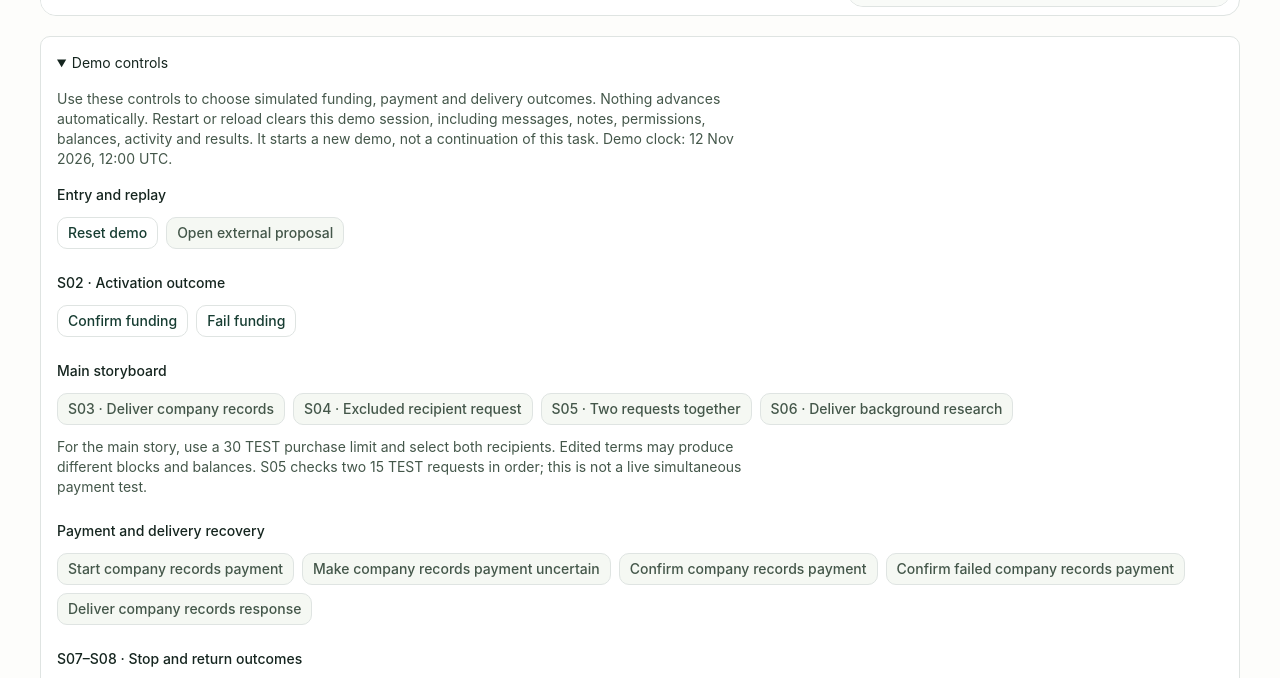
06 keeps the concise mandate-change action and its separate authorization requirement
Earlier steps of the test are not shown.
(page scrolled)
Click the button "Confirm funding" at {"x": 123, "y": 321}, box [57,305,188,337]
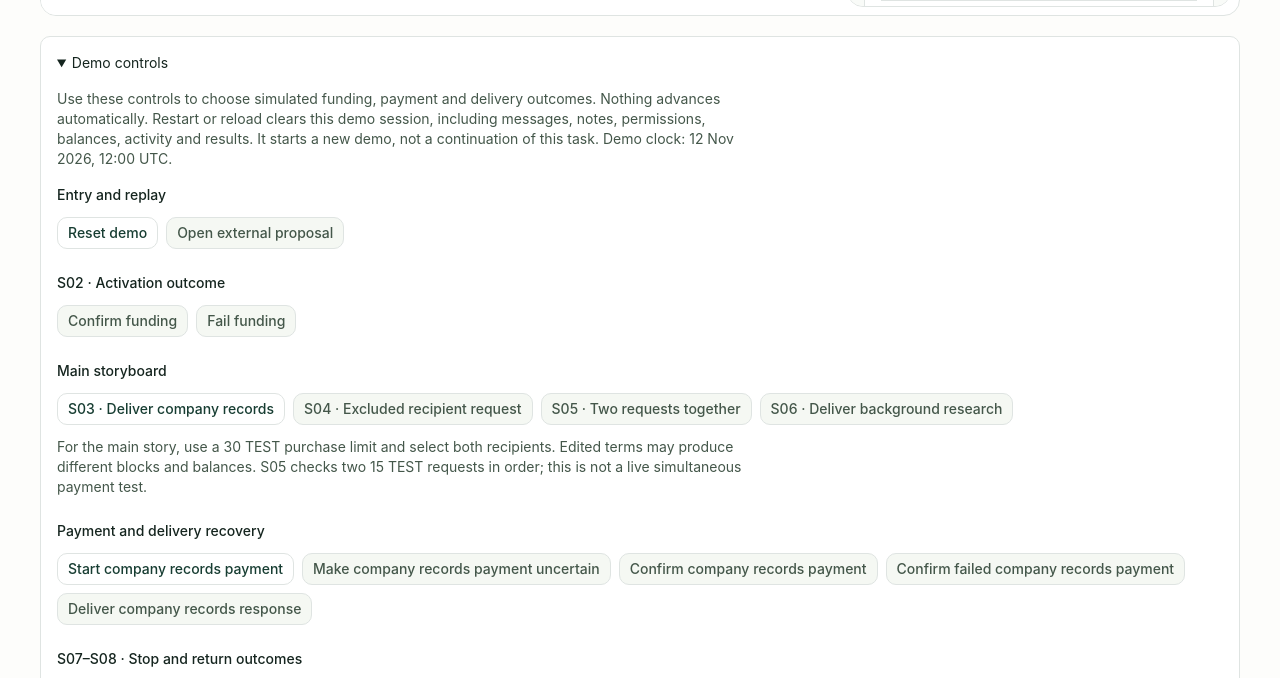
Click the button "S03 · Deliver company records" at {"x": 171, "y": 409}, box [57,393,285,425]
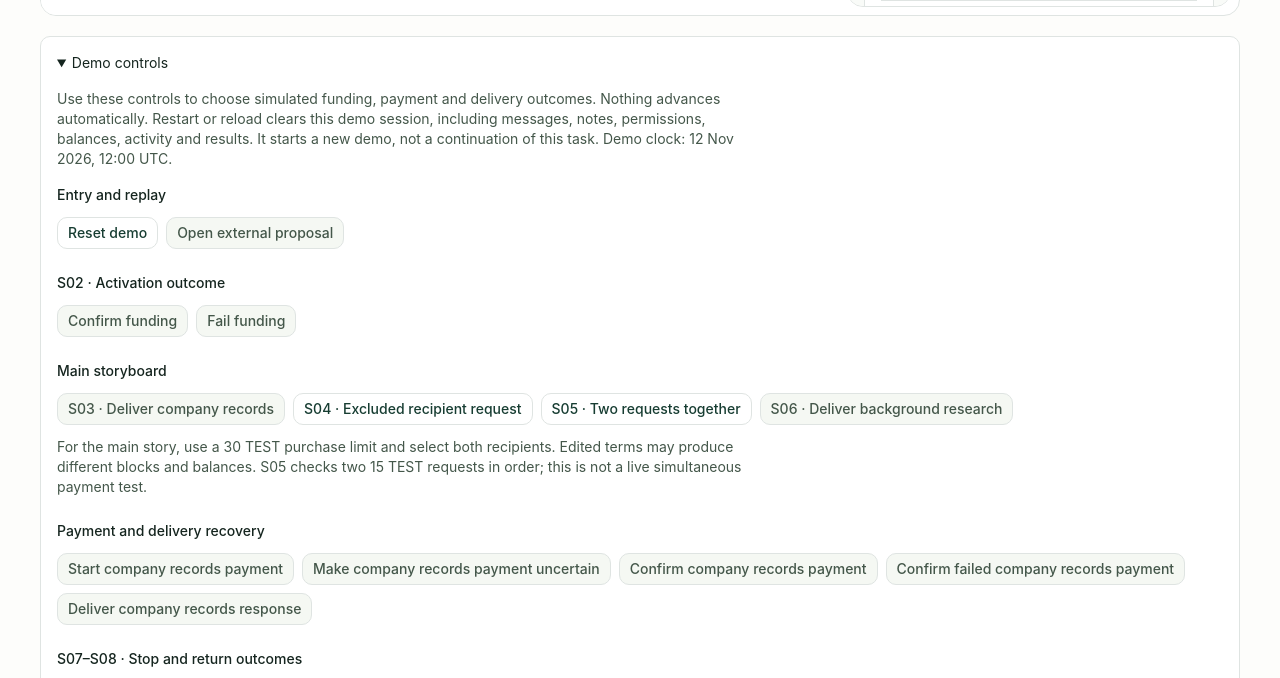
Click the button "S04 · Excluded recipient request" at {"x": 413, "y": 409}, box [293,393,533,425]
(page scrolled)
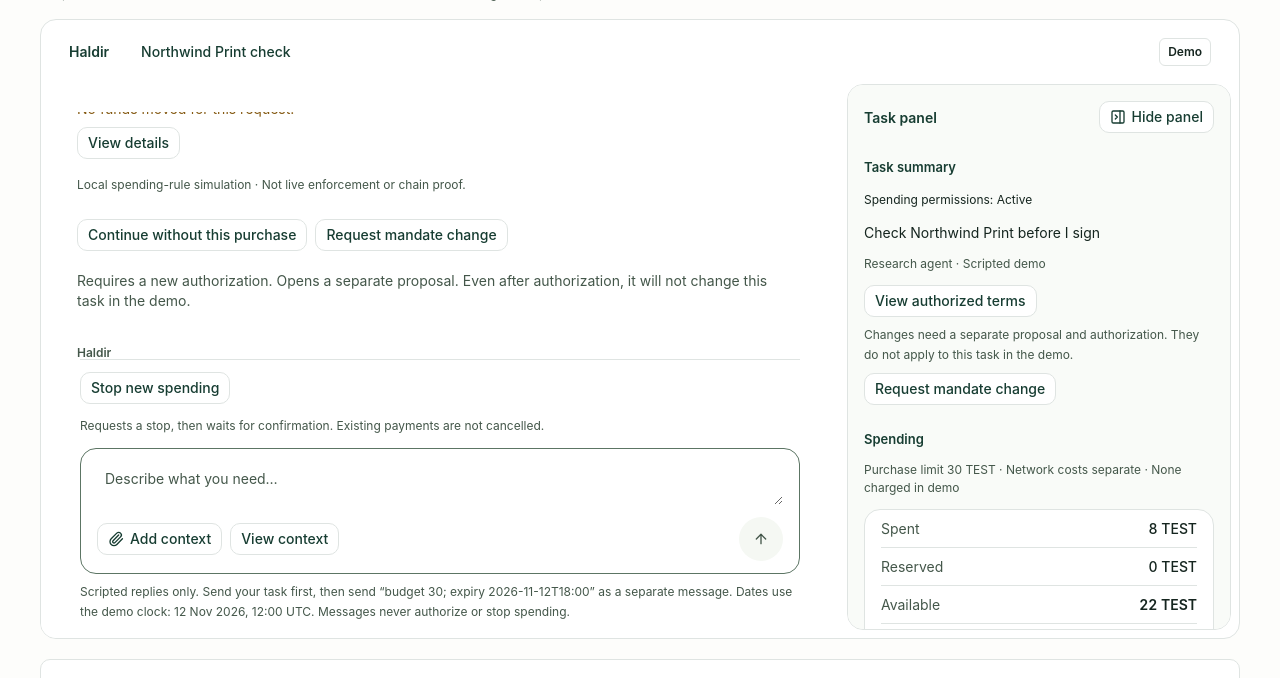
Now the button "Stop new spending" is enabled, box [80,372,230,404]
Now the text "Requires a new authorization. Opens a separate proposal. Even after authorization, it will not change this task in the d" is shown, box [77,272,767,309]
Now the button "Continue without this purchase" is enabled, box [77,219,307,251]
Click the button "Request mandate change" below "No funds moved for this request." at {"x": 412, "y": 235}, box [315,219,508,251]
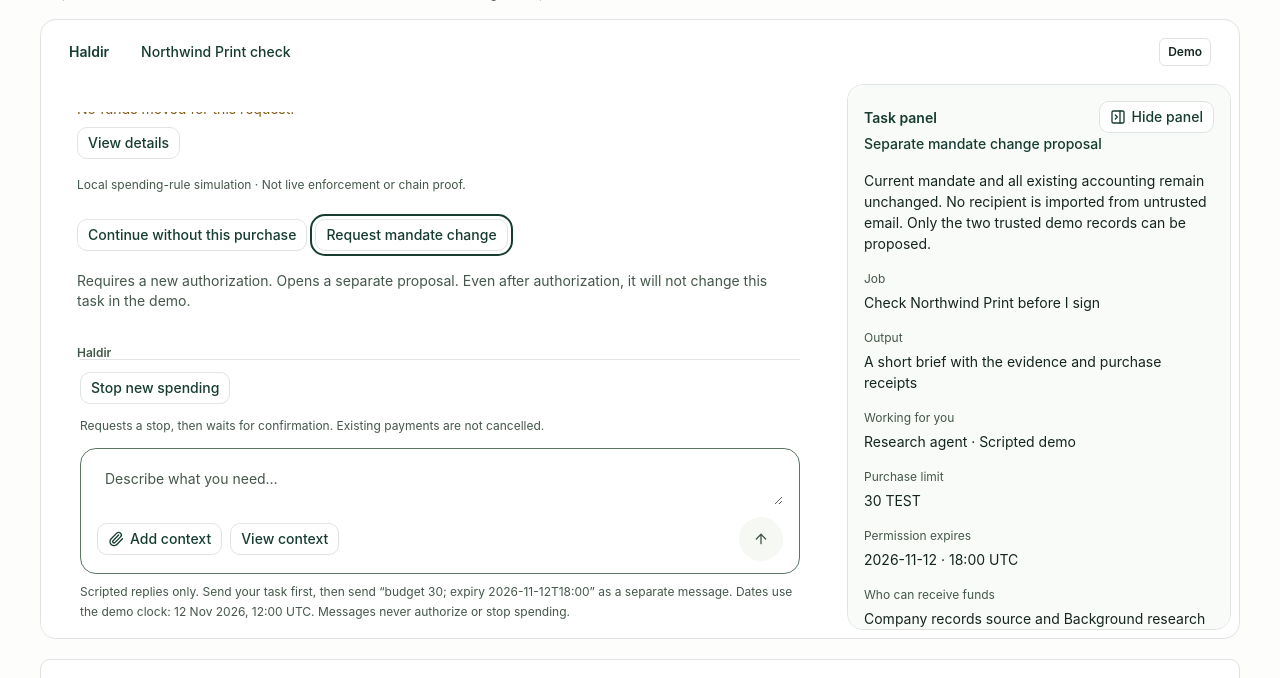
Now the heading "Separate mandate change proposal" is shown, box [864,135,1102,152]
Now the text "Current mandate and all existing accounting remain unchanged. No recipient is imported from untrusted email. Only the tw" is shown, box [864,172,1207,252]
